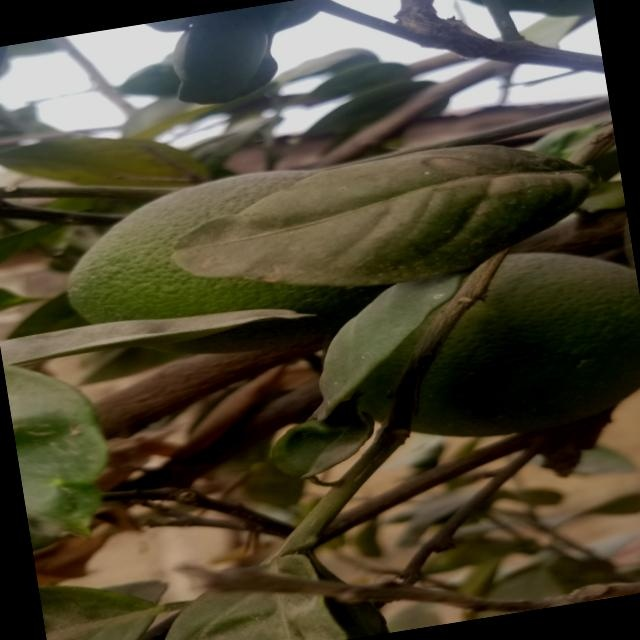agrume: (47, 152, 429, 376), (314, 239, 640, 455)
